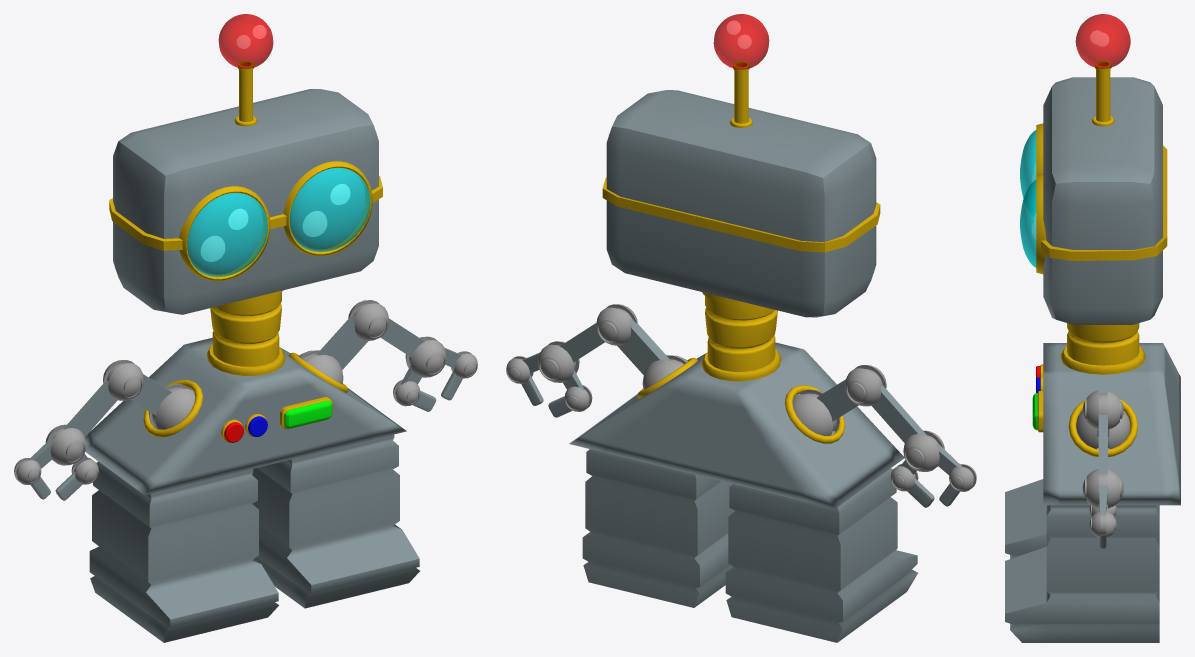
Rendered from NovaRobot.glb.
3 renders of one model, left to right at view 1: azimuth 30°, elevation 25°; view 2: azimuth 150°, elevation 25°; view 3: azimuth 270°, elevation 25°, orthographic.
Parts seen in each view (by area): view 1: Object_10, Object_7, Object_8, Object_12, Object_2, Object_11, Object_6; view 2: Object_10, Object_7, Object_12, Object_2; view 3: Object_10, Object_7, Object_12, Object_2, Object_8.
Part boxes in pixels (x1=…): Object_10: x1=28, y1=89, x2=462, y2=642; Object_7: x1=109, y1=61, x2=382, y2=442; Object_8: x1=187, y1=168, x2=370, y2=277; Object_12: x1=14, y1=300, x2=477, y2=484; Object_2: x1=218, y1=14, x2=273, y2=68; Object_11: x1=201, y1=184, x2=349, y2=261; Object_6: x1=284, y1=401, x2=332, y2=428; Object_10: x1=521, y1=90, x2=962, y2=642; Object_7: x1=602, y1=61, x2=880, y2=443; Object_12: x1=506, y1=304, x2=976, y2=491; Object_2: x1=713, y1=14, x2=769, y2=69; Object_10: x1=1005, y1=77, x2=1180, y2=642; Object_7: x1=1036, y1=61, x2=1167, y2=456; Object_12: x1=1076, y1=390, x2=1130, y2=537; Object_2: x1=1075, y1=14, x2=1130, y2=68; Object_8: x1=1020, y1=130, x2=1036, y2=267.
Bounding box in the file's own units: 4.43 × 5.22 × 1.47.
